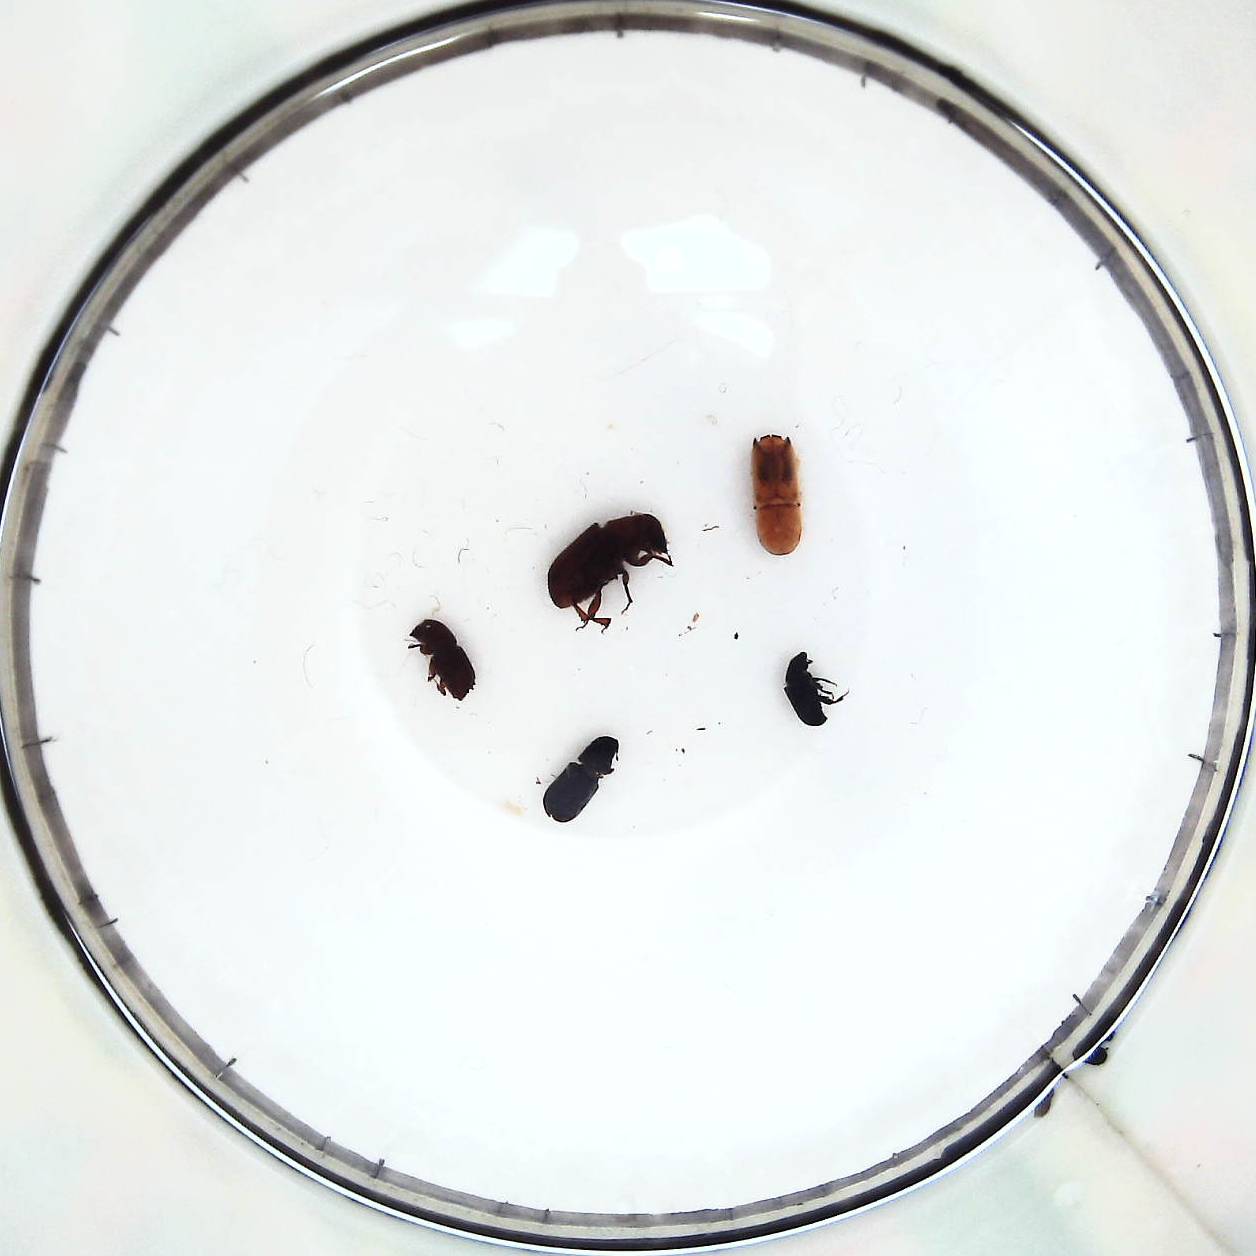Boerner: (753, 427, 806, 562)
Leconte: (541, 514, 675, 630)
Linnaeus: (409, 616, 476, 700)
armandi: (541, 735, 618, 826)
coleoptera: (782, 653, 841, 727)
